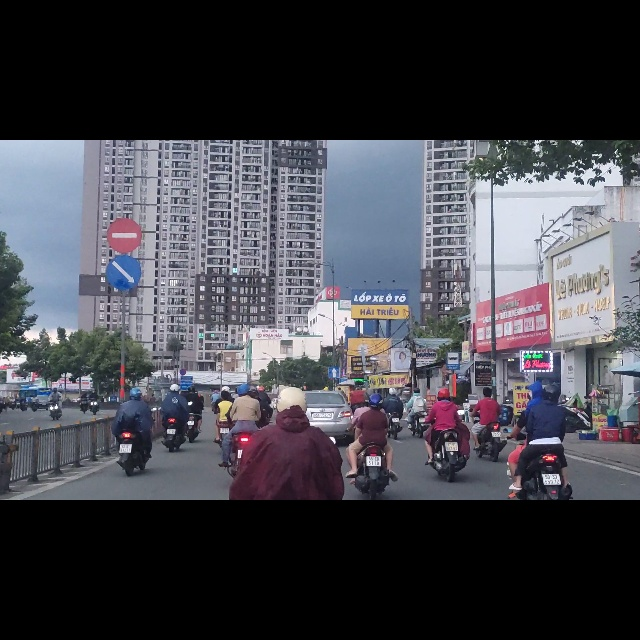bien_cam: (105, 133, 144, 204), (103, 202, 143, 269), (446, 376, 460, 409), (328, 402, 341, 423)
